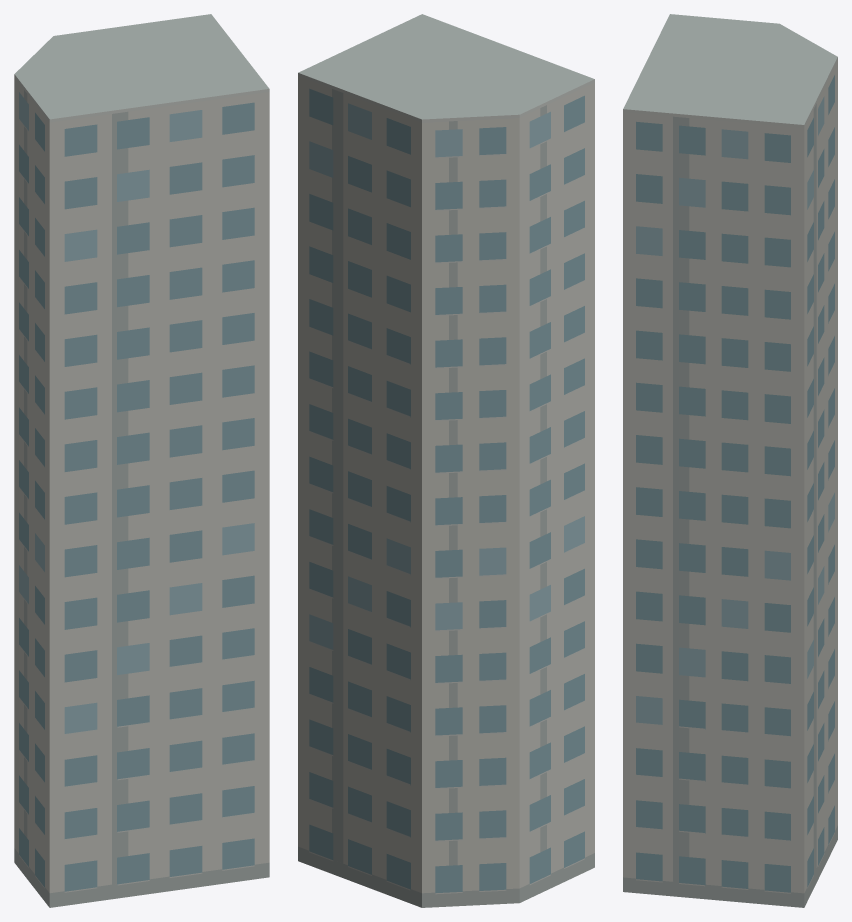
Rendered from residential-589cb8d2-6c33-4f62-9254-0e50b66122d8.glb.
The picture shows the model from 3 angles, left to right: view 1: azimuth 30°, elevation 25°; view 2: azimuth 150°, elevation 25°; view 3: azimuth 270°, elevation 25°; orthographic projection.
Visible parts, largest first — view 1: residential-589cb8d2-6c33-4f62-9254-0e50b66122d8.tmp; view 2: residential-589cb8d2-6c33-4f62-9254-0e50b66122d8.tmp; view 3: residential-589cb8d2-6c33-4f62-9254-0e50b66122d8.tmp.
Boxes of the visible parts, left/top/right/bottom form: residential-589cb8d2-6c33-4f62-9254-0e50b66122d8.tmp: left=14, top=14, right=269, bottom=907; residential-589cb8d2-6c33-4f62-9254-0e50b66122d8.tmp: left=298, top=14, right=594, bottom=907; residential-589cb8d2-6c33-4f62-9254-0e50b66122d8.tmp: left=623, top=14, right=837, bottom=907.
Size of the model in its own units: 18.26 by 60 by 14.93.
